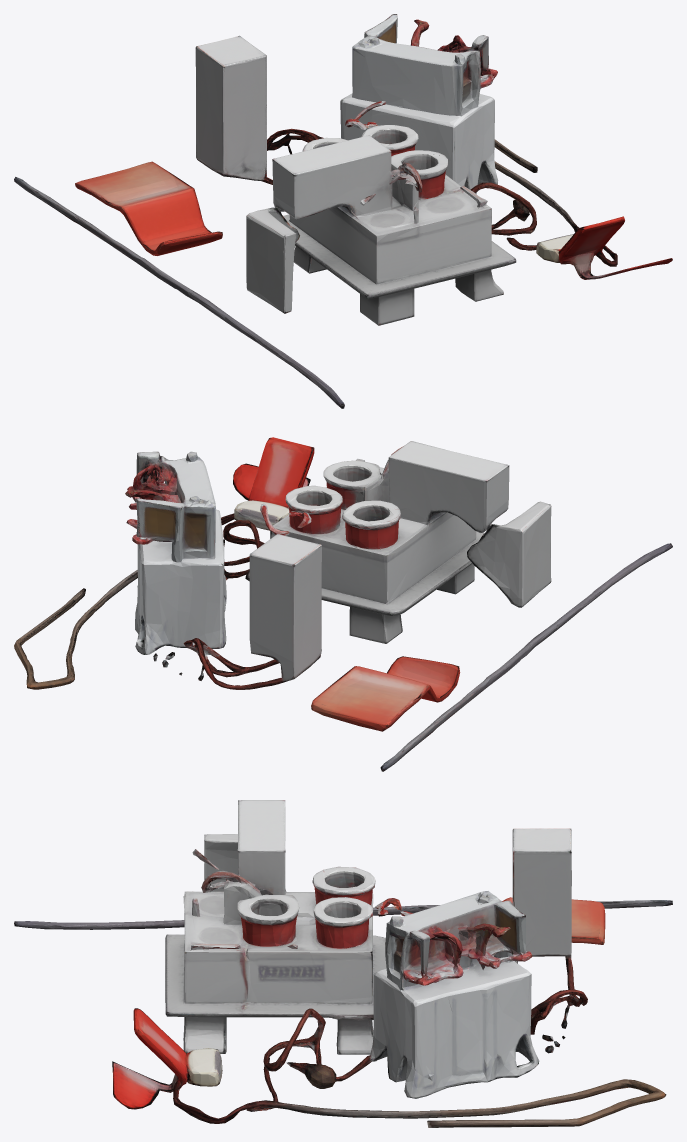
The model's file is apollo-11.glb.
3 renders of one model, top to bottom at view 1: azimuth 30°, elevation 25°; view 2: azimuth 150°, elevation 25°; view 3: azimuth 270°, elevation 25°, orthographic. The views are drawn at different scales.
Parts seen in each view (by area): view 1: world; view 2: world; view 3: world.
Boxes of the visible parts, x1,y1,x2,y2 form: world: (14, 14, 672, 408); world: (14, 437, 672, 771); world: (14, 800, 672, 1127).
Size of the model in its own units: 0.7733 by 0.2875 by 1.
1 material, 1 textured.
